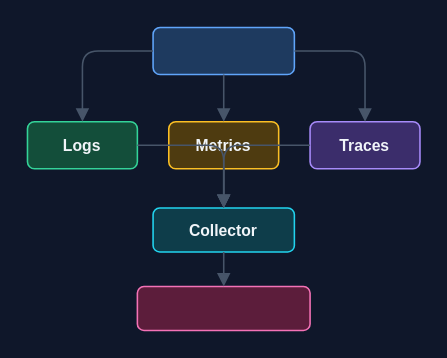
The diagram is 447 pixels wide and 358 high, and some of its shapes have lost their labels. The centre of each missing label's shape, as x and y in pixels:
"App" goes at pixel 223 50.
"Dashboard" goes at pixel 223 307.
